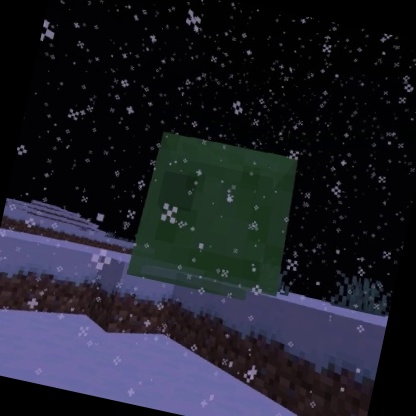slime: (121, 120, 309, 311)
